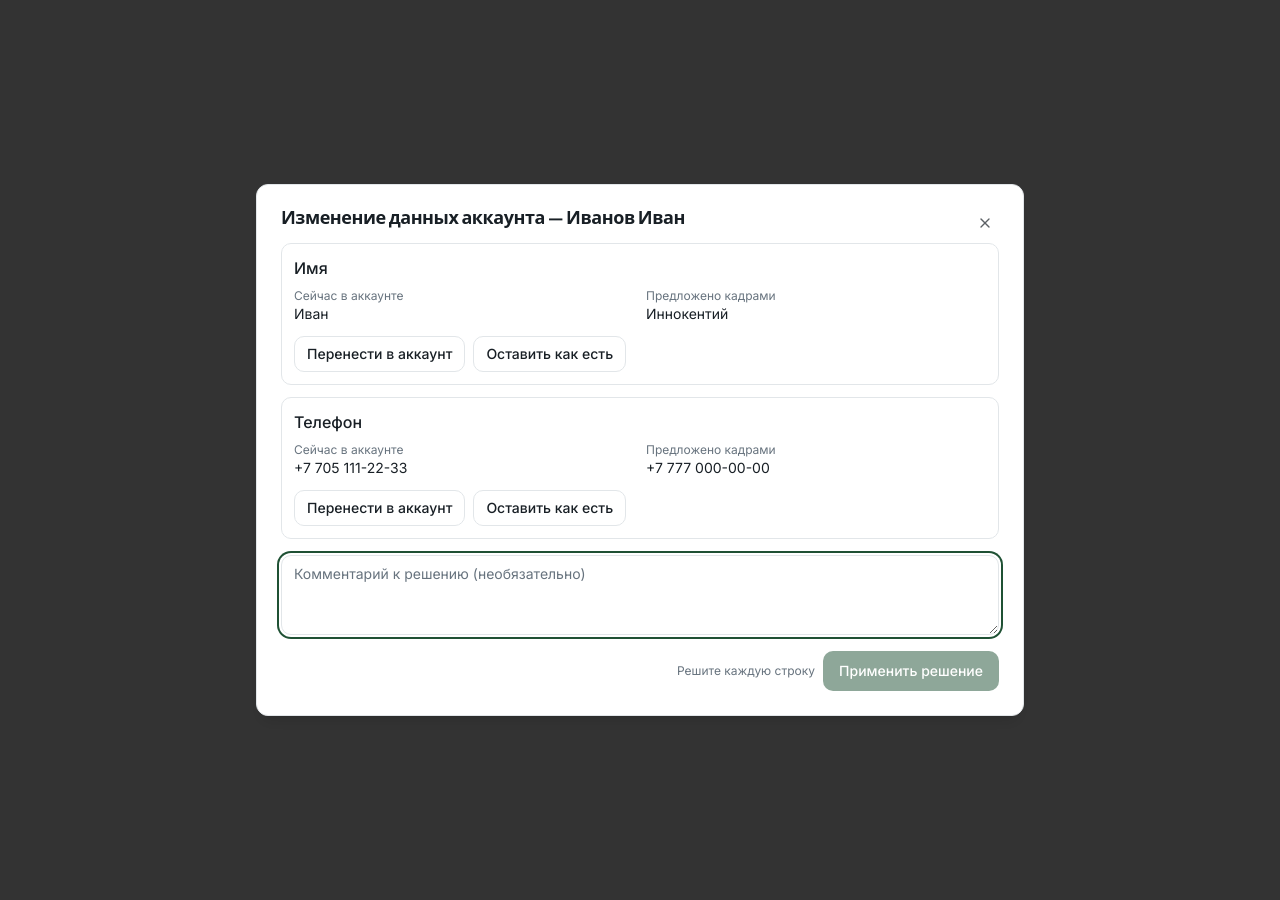
it: IdentityRequestDialog › не даёт применить, пока решены не все строки
Expected: the text "Имя" is shown, x1=294 y1=256 x2=328 y2=280
Expected: the button "Применить решение" is disabled, x1=823 y1=651 x2=999 y2=691
// решили только первую строку из двух
Click the button "Перенести в аккаунт" below "Иннокентий".
click(380, 354)  # box x1=294 y1=336 x2=465 y2=372
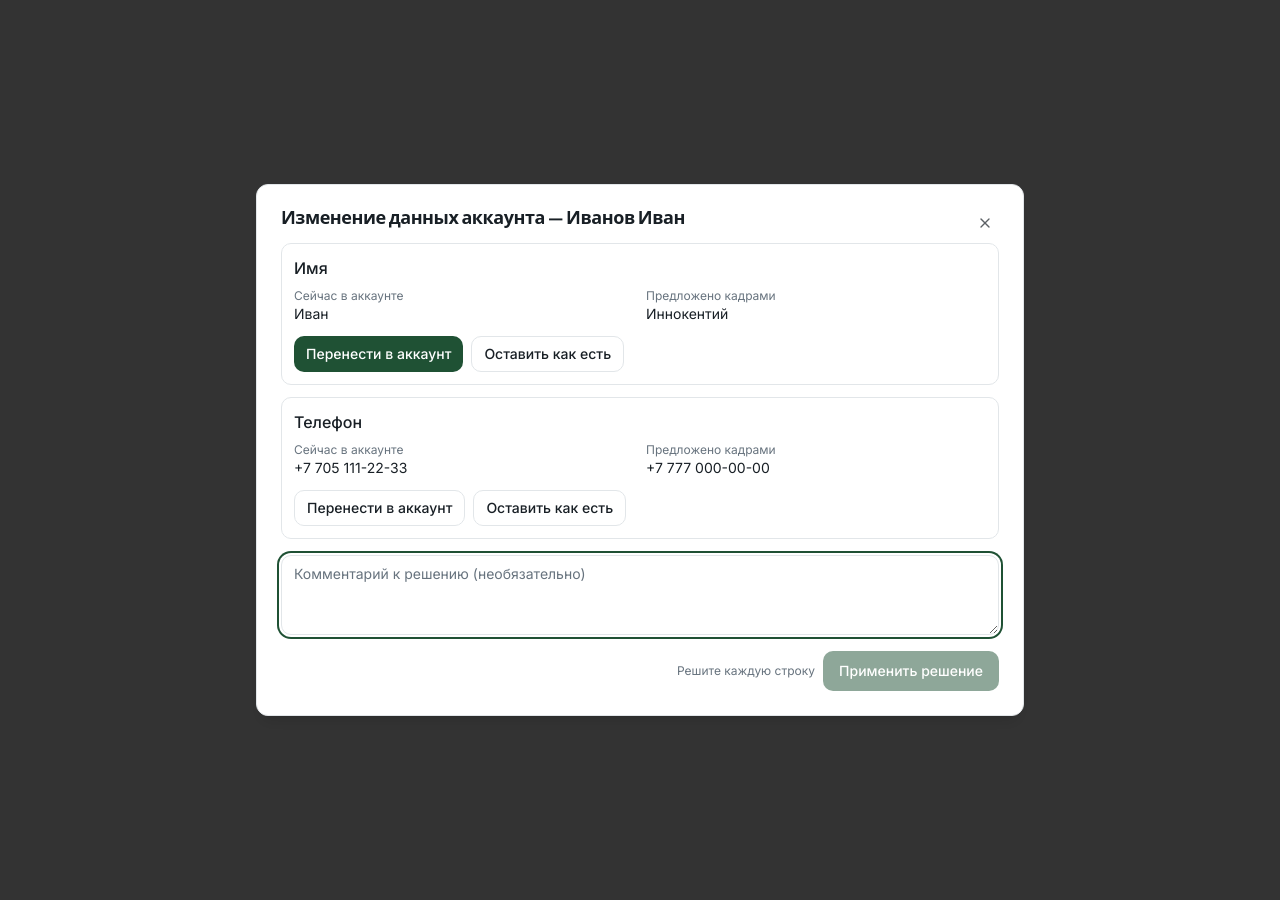
Expected: the button "Применить решение" is disabled, x1=823 y1=651 x2=999 y2=691
Click the button "Оставить как есть" below "+7 705 111-22-33".
click(550, 508)  # box x1=473 y1=490 x2=626 y2=526
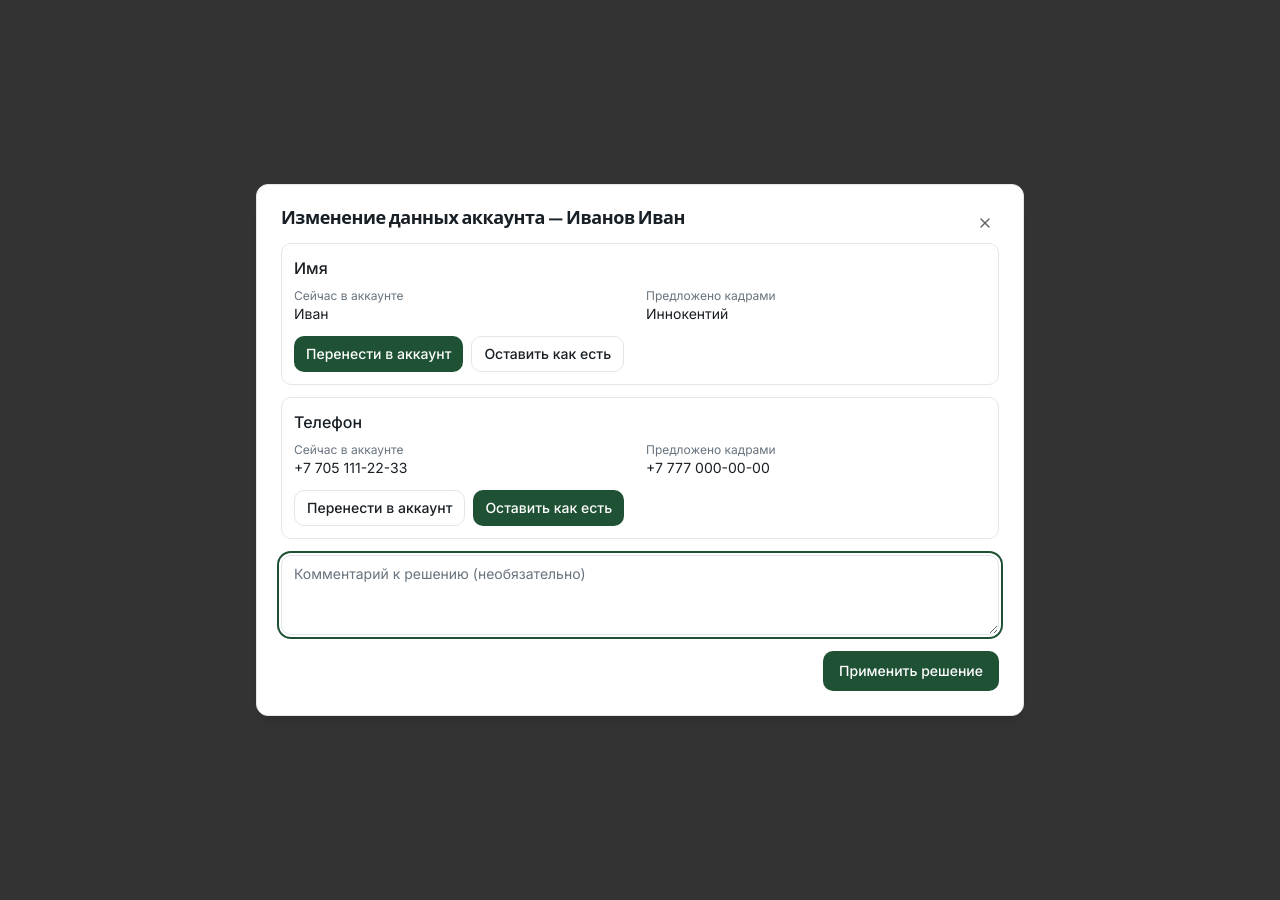
Now the button "Применить решение" is enabled, box x1=823 y1=651 x2=999 y2=691
